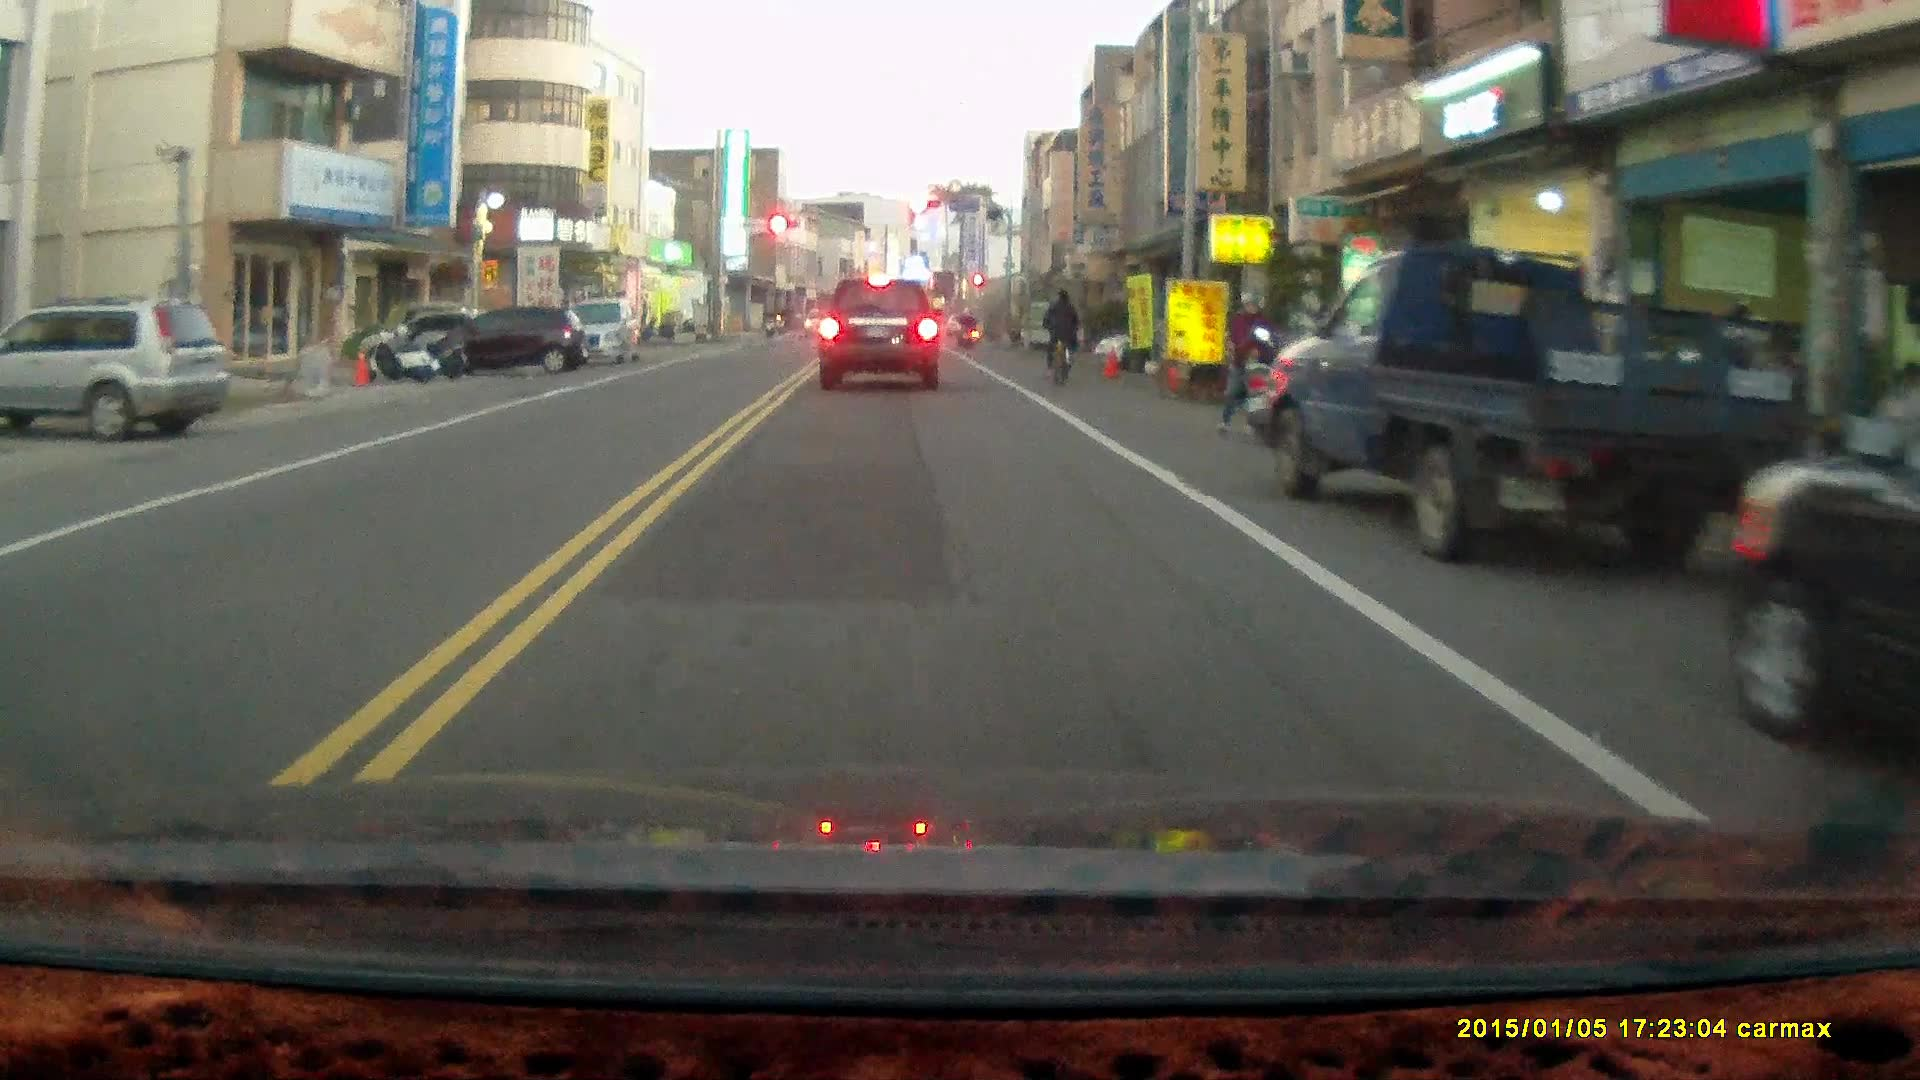pedestrian: (1217, 288, 1270, 438)
rider: (1041, 284, 1080, 387)
vehicle: (1247, 242, 1800, 568), (2, 294, 232, 438), (818, 271, 945, 394), (438, 302, 591, 376), (534, 294, 646, 368)
